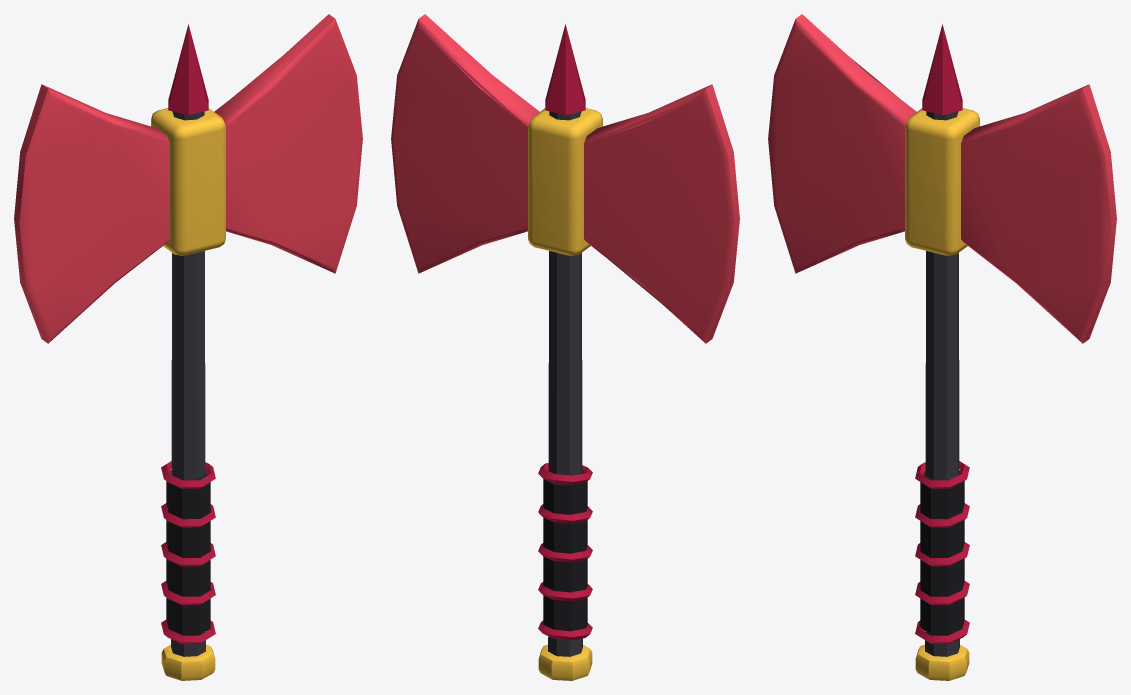
Rendered from RubyBattleAxe.fbx.
3 views of the same model, side by side, from view 1: azimuth 30°, elevation 25°; view 2: azimuth 150°, elevation 25°; view 3: azimuth 330°, elevation 25° (orthographic).
Parts seen in each view (by area): view 1: RubyBattleAxe; view 2: RubyBattleAxe; view 3: RubyBattleAxe.
Part boxes in pixels (x1=…): RubyBattleAxe: x1=14, y1=14, x2=362, y2=680; RubyBattleAxe: x1=391, y1=14, x2=739, y2=680; RubyBattleAxe: x1=768, y1=14, x2=1116, y2=680.
Size of the model in its own units: 2.2 by 3.97 by 0.34.
1 material, 1 textured.
